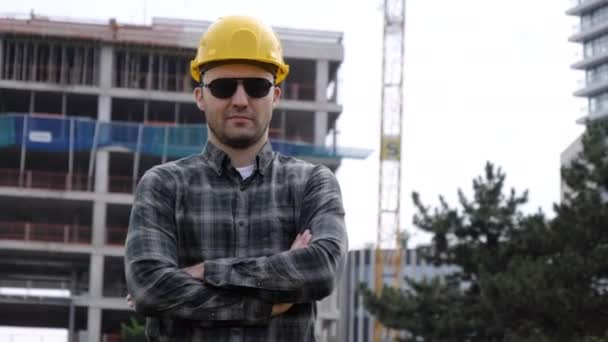Person_wearing_helmet: (185, 8, 293, 106)
